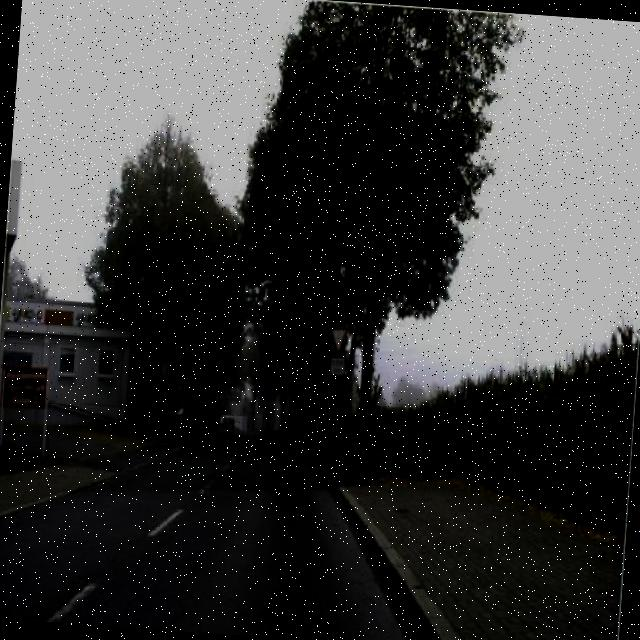Ustap pierwszenstwa: (326, 320, 350, 360)
